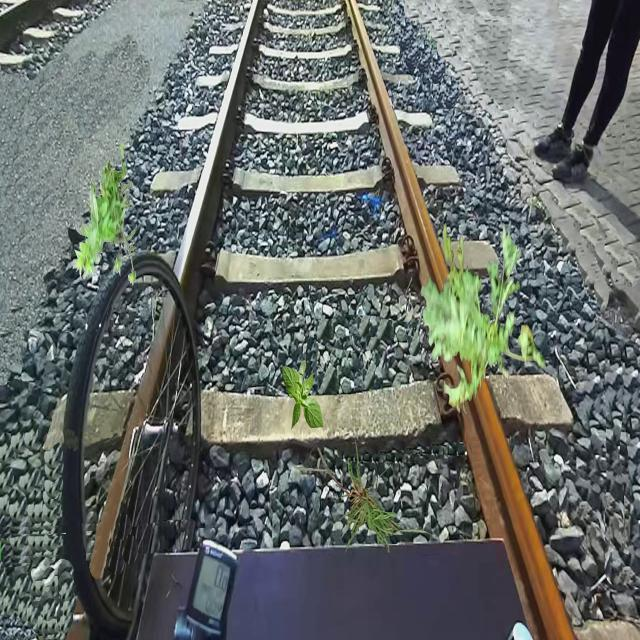Plant: (421, 220, 546, 416), (294, 436, 438, 556), (73, 143, 138, 286), (282, 360, 324, 431)
